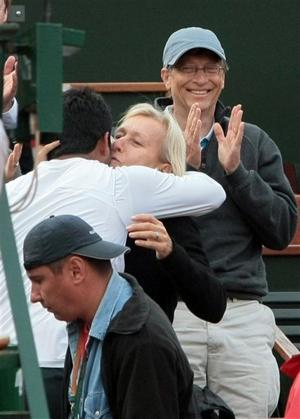person: (154, 27, 298, 414)
